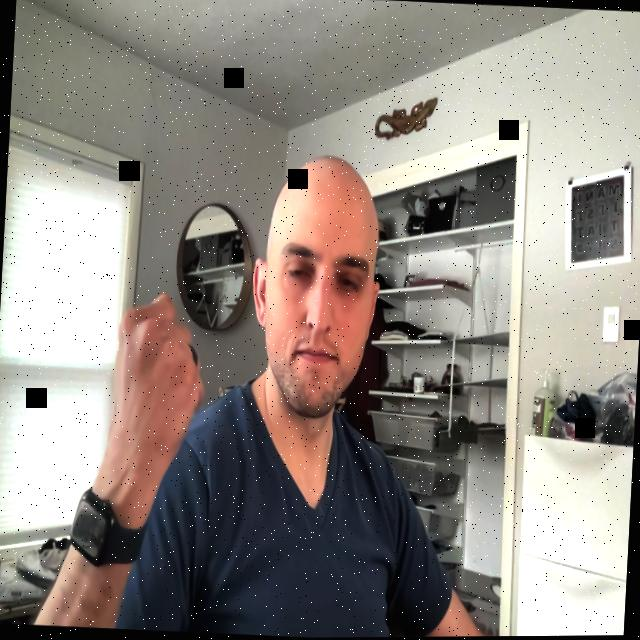Rock: (104, 289, 208, 471)
